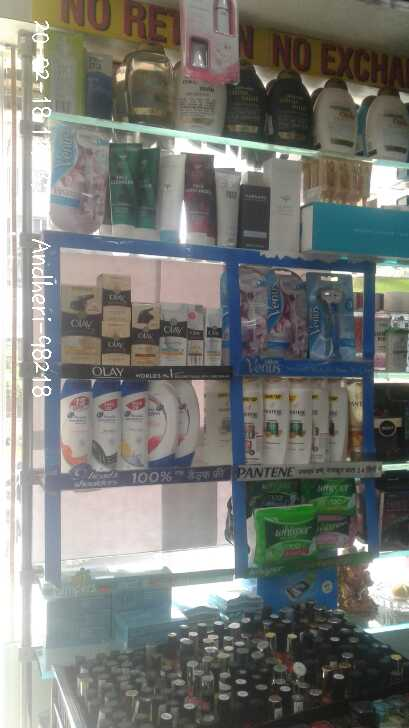venus: (51, 122, 103, 237), (263, 272, 309, 357), (309, 273, 352, 357), (224, 272, 263, 358)
